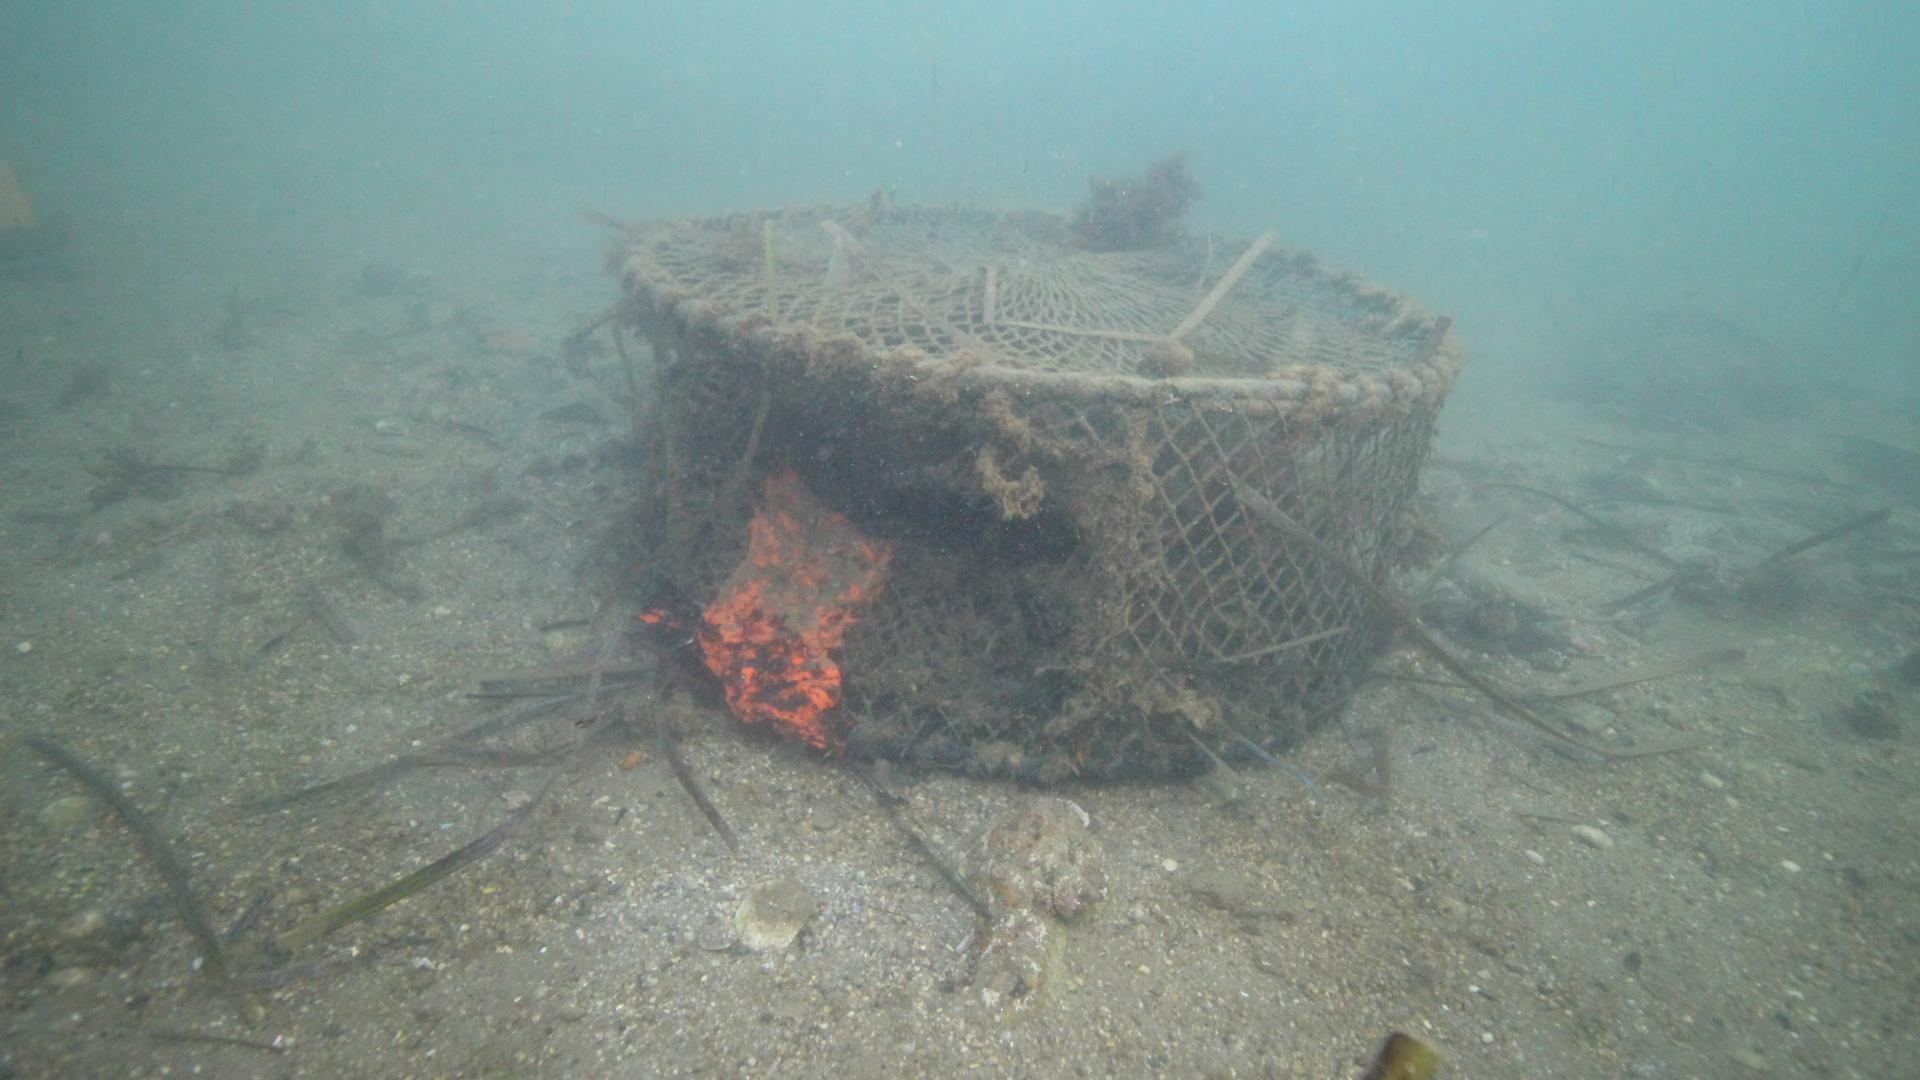circular fish trap: (615, 200, 1462, 785)
